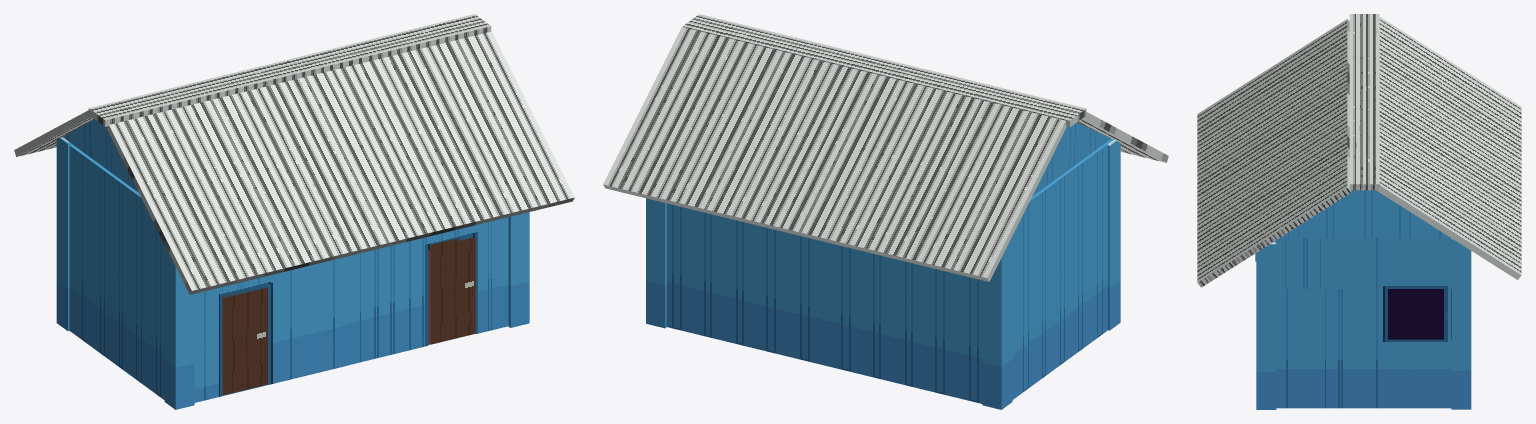
The model's file is casa cutre.gltf.
3 renders of one model, left to right at view 1: azimuth 30°, elevation 25°; view 2: azimuth 150°, elevation 25°; view 3: azimuth 270°, elevation 25°, orthographic. The views are drawn at different scales.
Visible parts, largest first — view 1: pilar; view 2: pilar; view 3: pilar.
Part boxes in pixels (left/top/right/bottom): pilar: left=14, top=14, right=574, bottom=409; pilar: left=603, top=14, right=1168, bottom=409; pilar: left=1197, top=14, right=1521, bottom=409.
Size of the model in its own units: 15.16 by 9.59 by 12.17.
Materials: 1 (1 with a texture image).
